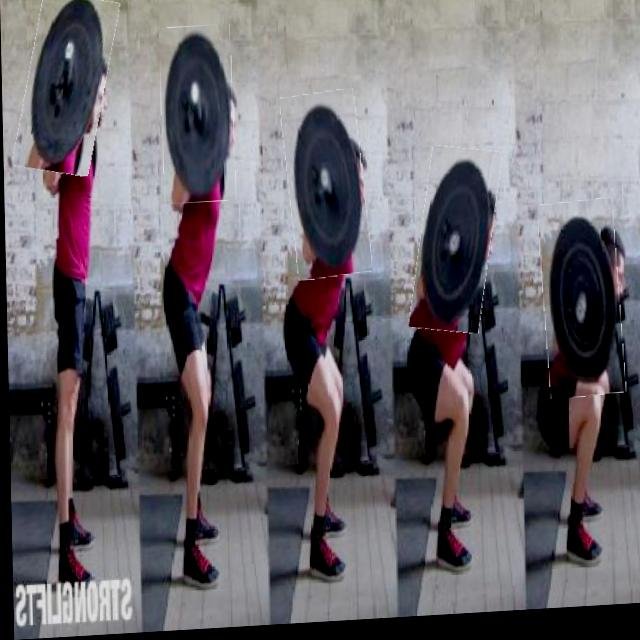barbell: (19, 1, 116, 178), (539, 206, 623, 407), (411, 151, 498, 341), (284, 95, 368, 285), (160, 28, 235, 208)
